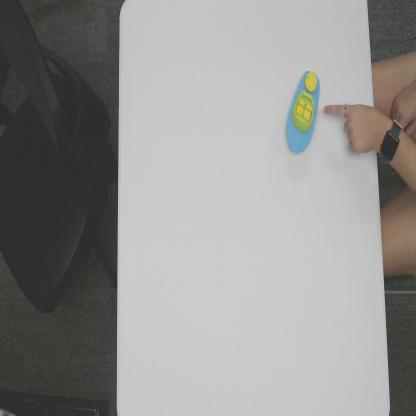Boat: (286, 67, 321, 155)
Hand: (323, 103, 375, 157)
